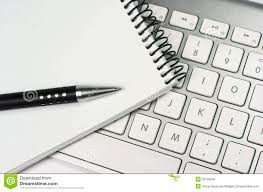pen: (1, 80, 124, 110)
